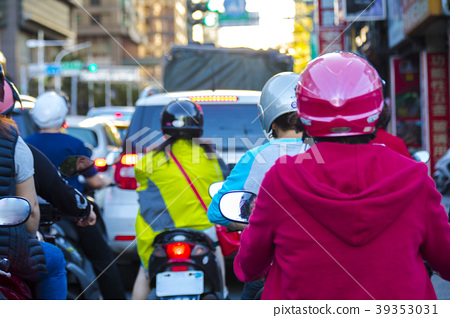helmet: (294, 53, 383, 141), (257, 74, 306, 117)
